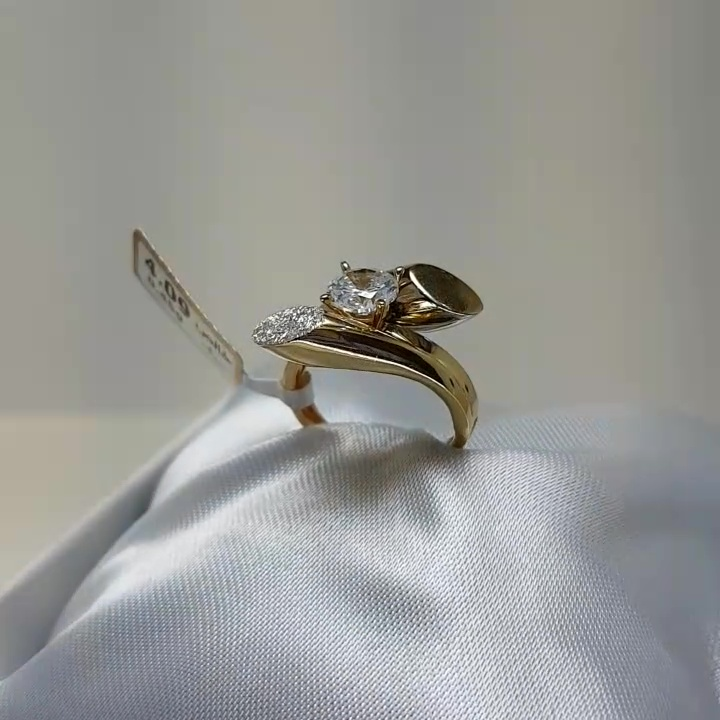Ring 7: (240, 235, 493, 466)
